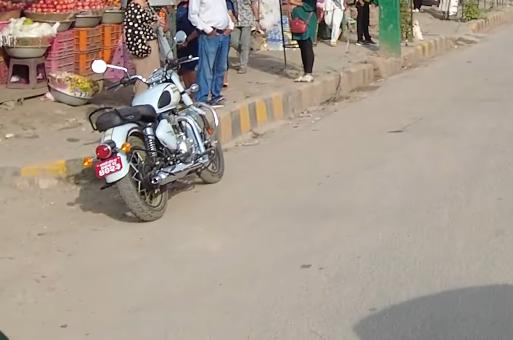bike: (84, 48, 227, 225)
